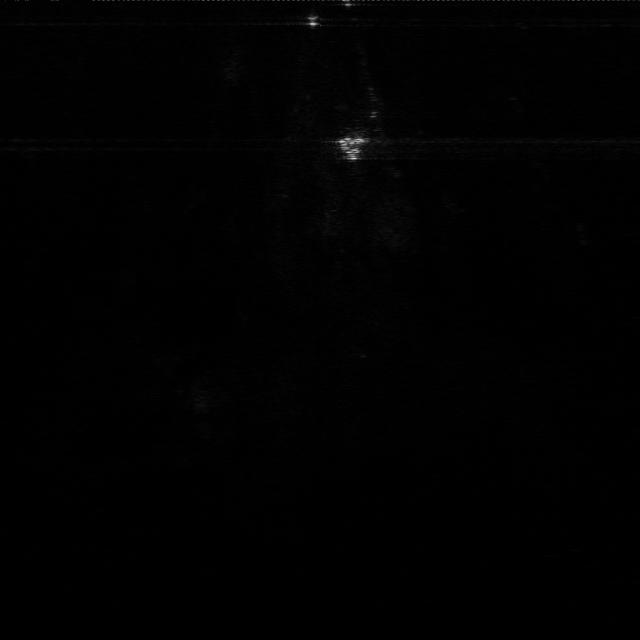rov: (332, 134, 371, 162)
